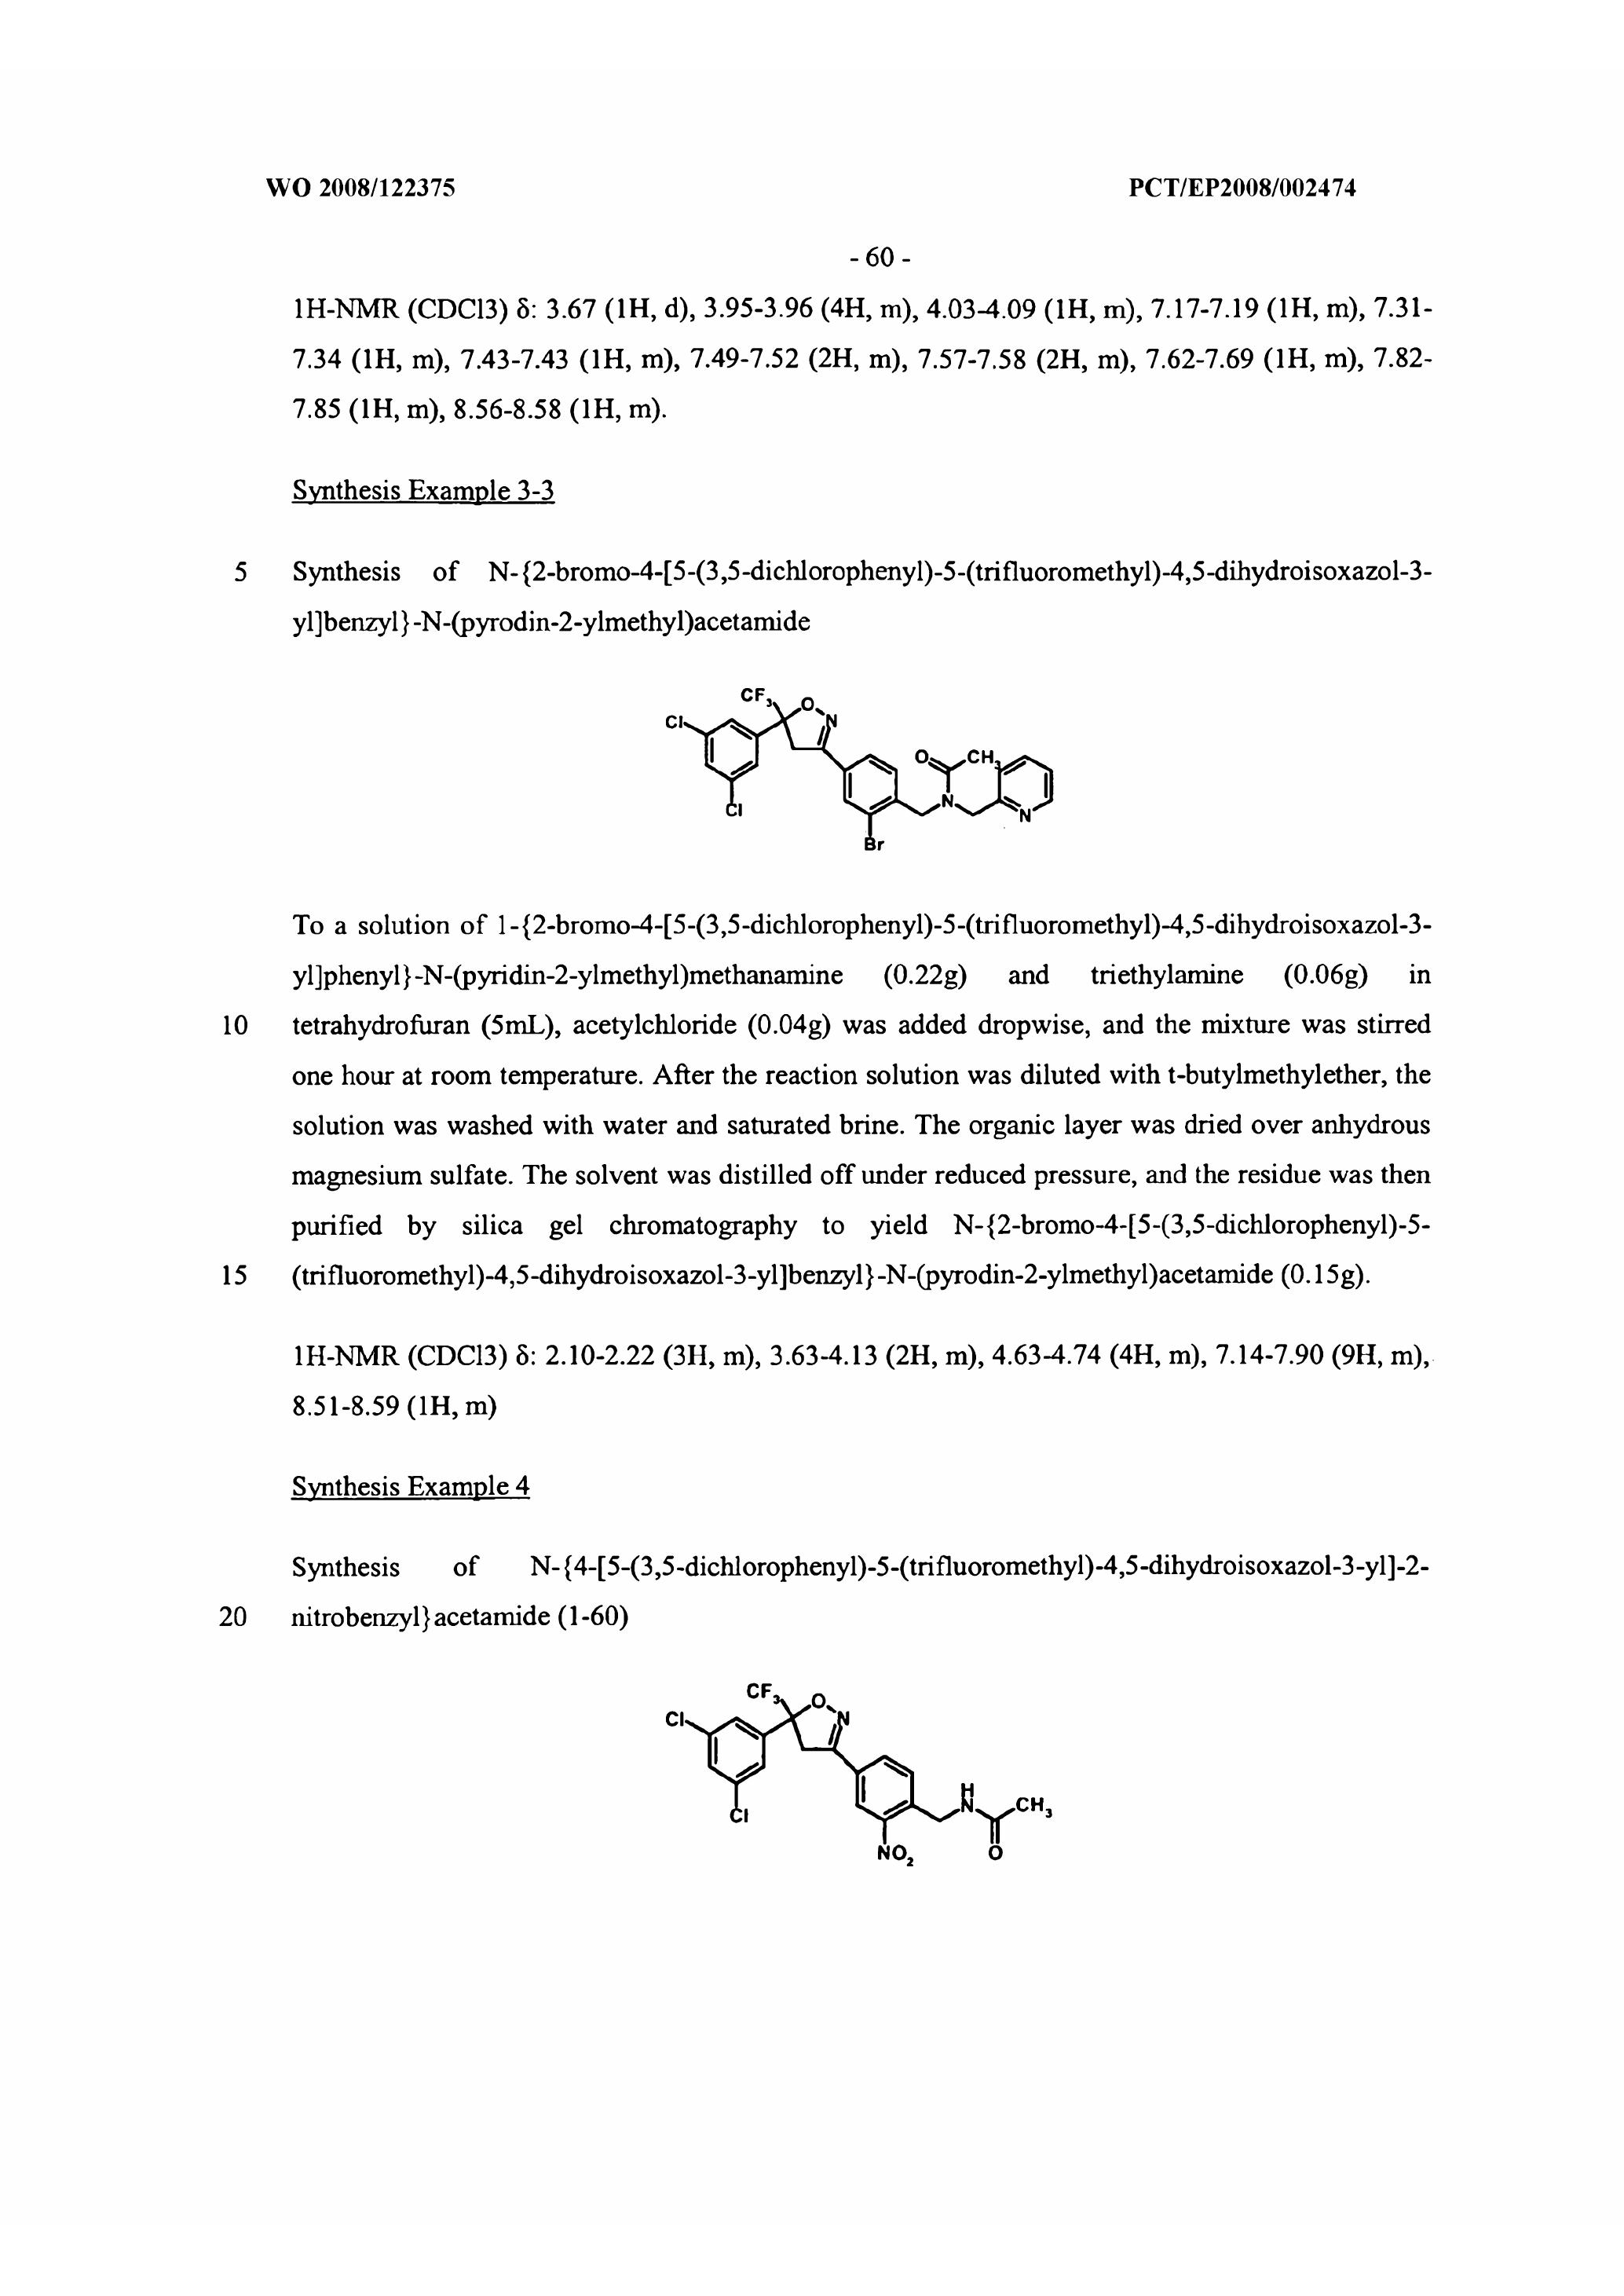relevant-structures: (645, 1621, 1213, 2066), (620, 666, 1149, 884)
